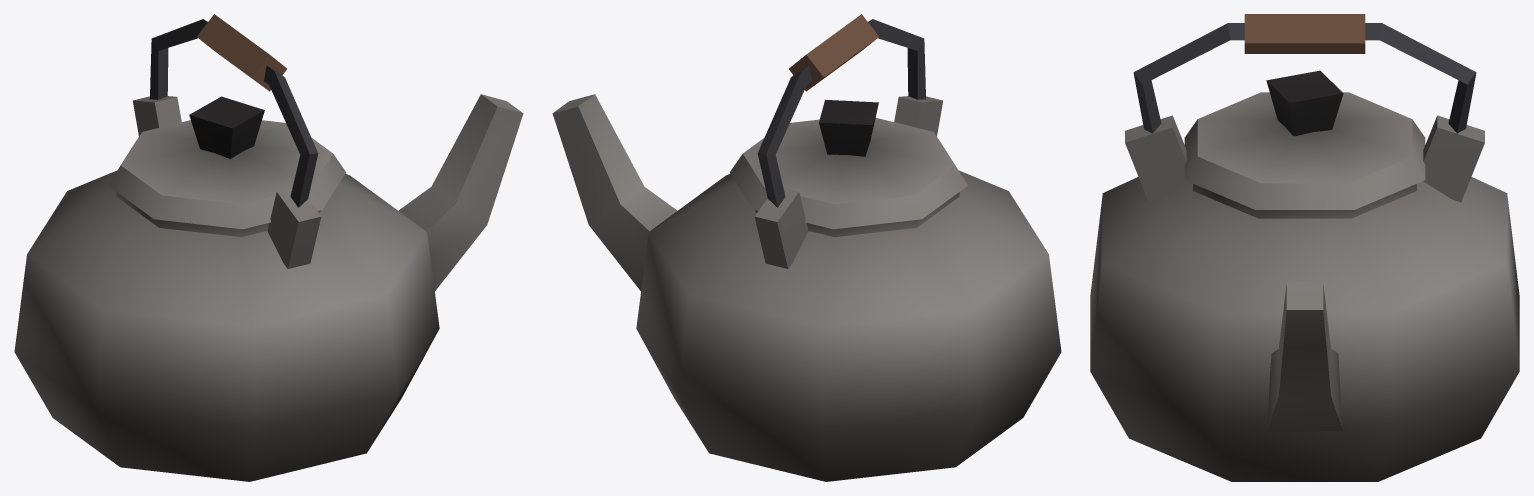
The model's file is prop_kettle.glb.
3 renders of one model, left to right at view 1: azimuth 30°, elevation 25°; view 2: azimuth 150°, elevation 25°; view 3: azimuth 270°, elevation 25°, orthographic. The views are drawn at different scales.
Parts seen in each view (by area): view 1: prop_kettle_mesh; view 2: prop_kettle_mesh; view 3: prop_kettle_mesh.
Boxes of the visible parts, x1,y1,x2,y2 form: prop_kettle_mesh: (14, 14, 523, 481); prop_kettle_mesh: (552, 14, 1061, 481); prop_kettle_mesh: (1090, 14, 1519, 481).
Bounding box in the file's own units: 0.2473 × 0.1904 × 0.1846.
